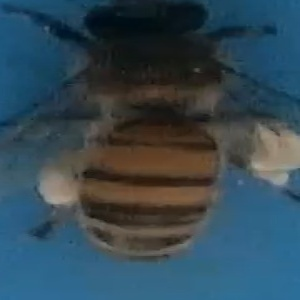bee: (5, 1, 298, 263)
